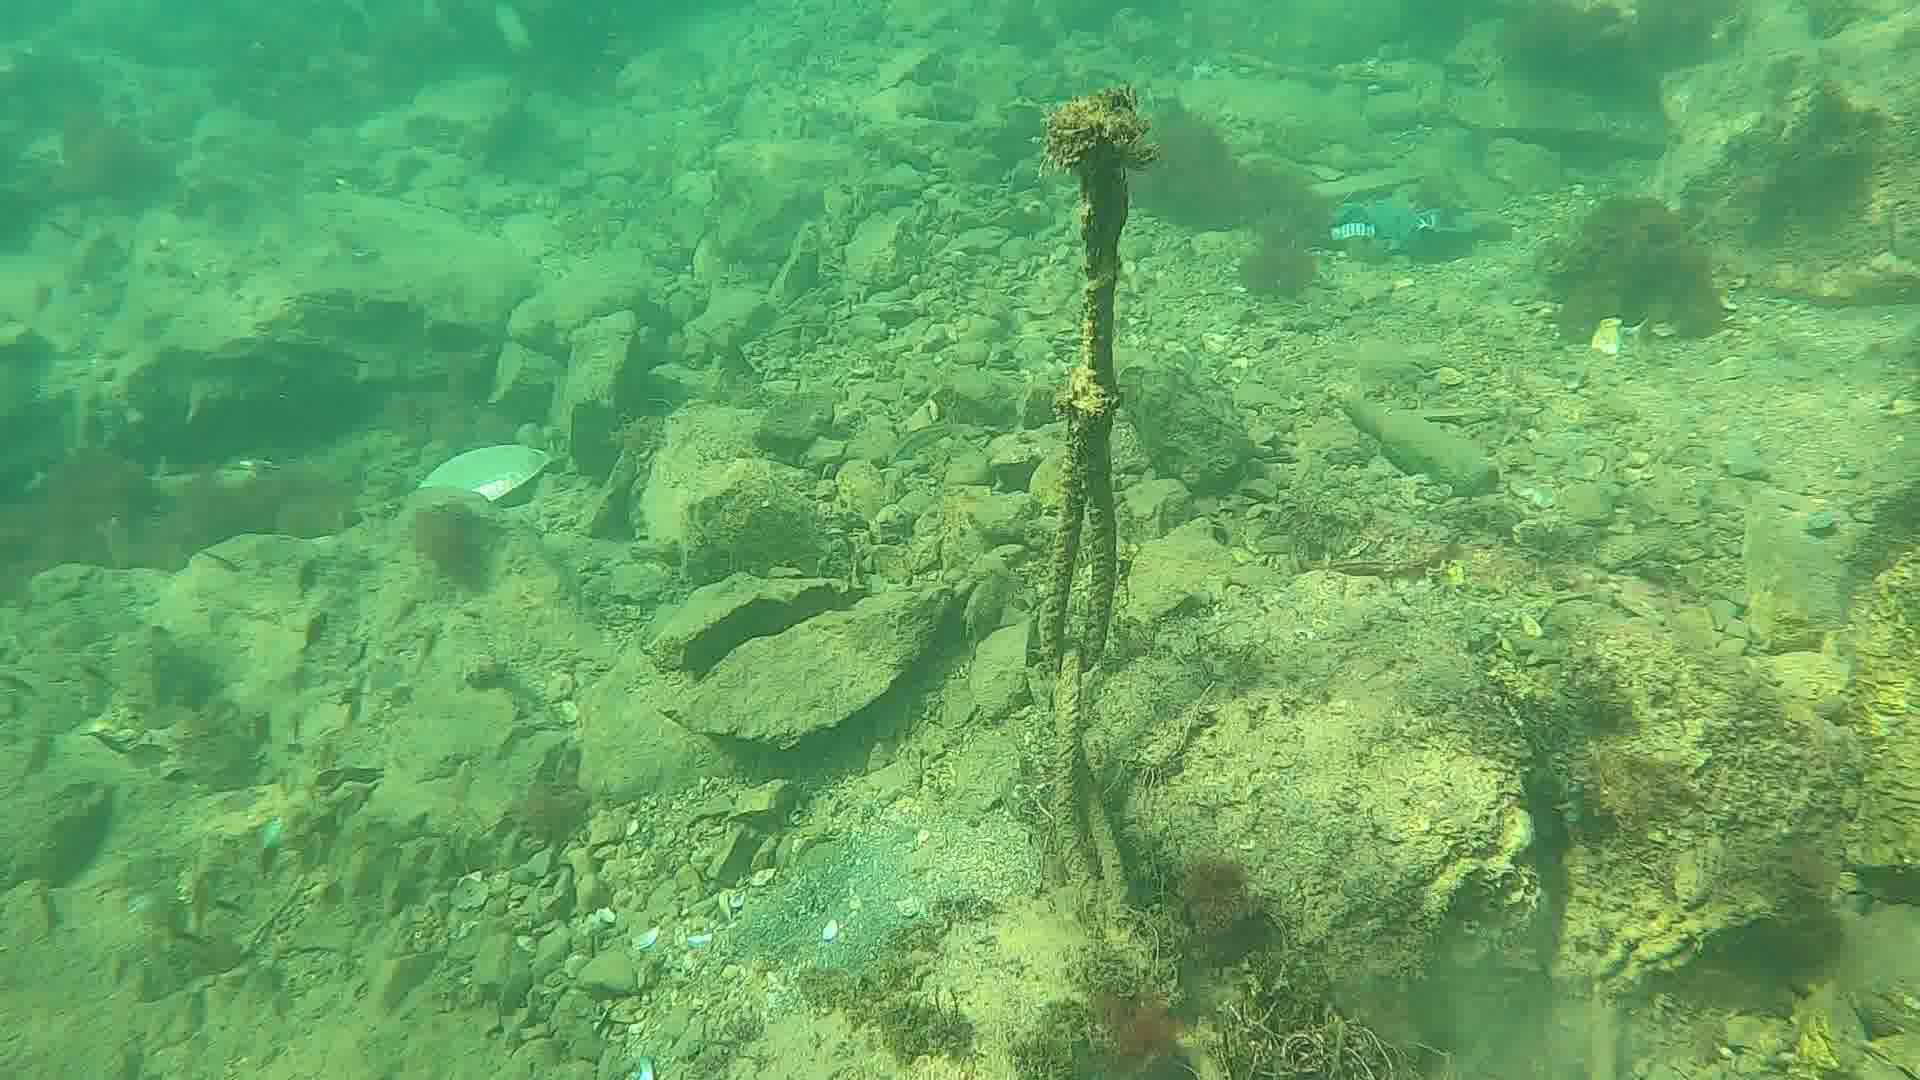bundle of ropes: (1036, 156, 1131, 885)
